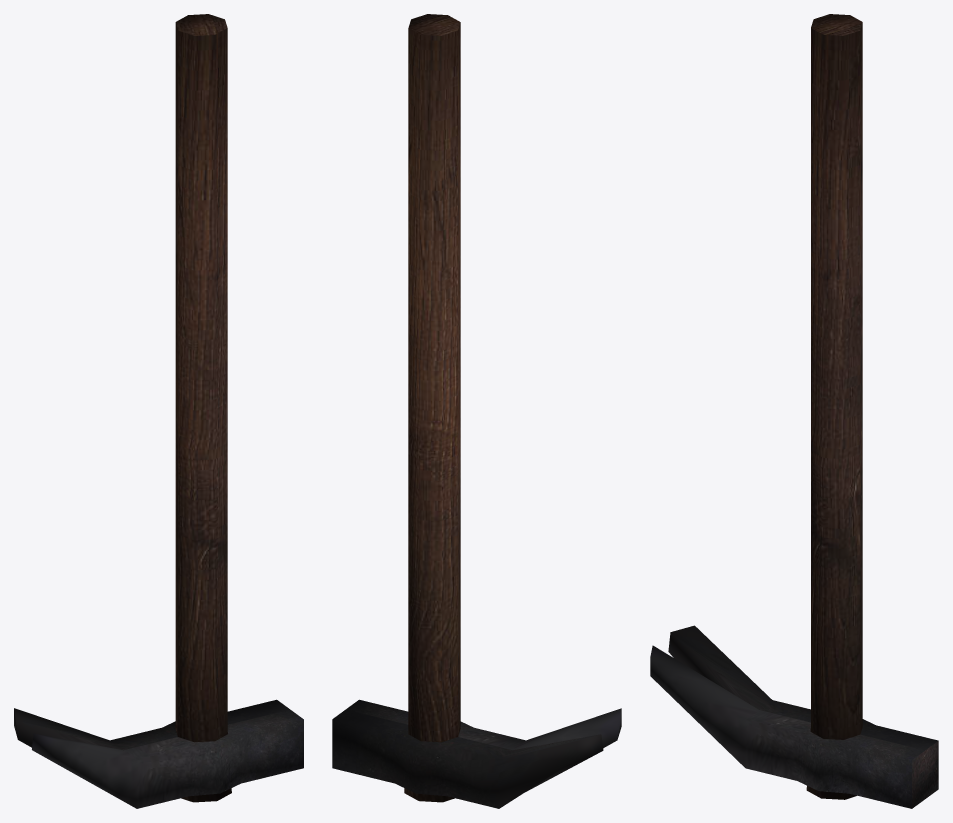
Rendered from Clamp2.fbx.
The picture shows the model from 3 angles, left to right: view 1: azimuth 30°, elevation 25°; view 2: azimuth 150°, elevation 25°; view 3: azimuth 330°, elevation 25°; orthographic projection.
Visible parts, largest first — view 1: Cube.013; view 2: Cube.013; view 3: Cube.013.
Part boxes in pixels (bbox=[...]): Cube.013: bbox=[14, 14, 303, 808]; Cube.013: bbox=[332, 14, 621, 808]; Cube.013: bbox=[650, 14, 938, 808].
Bounding box in the file's own units: 16.77 × 4.9 × 46.2.
Materials: 2 (2 with a texture image).
